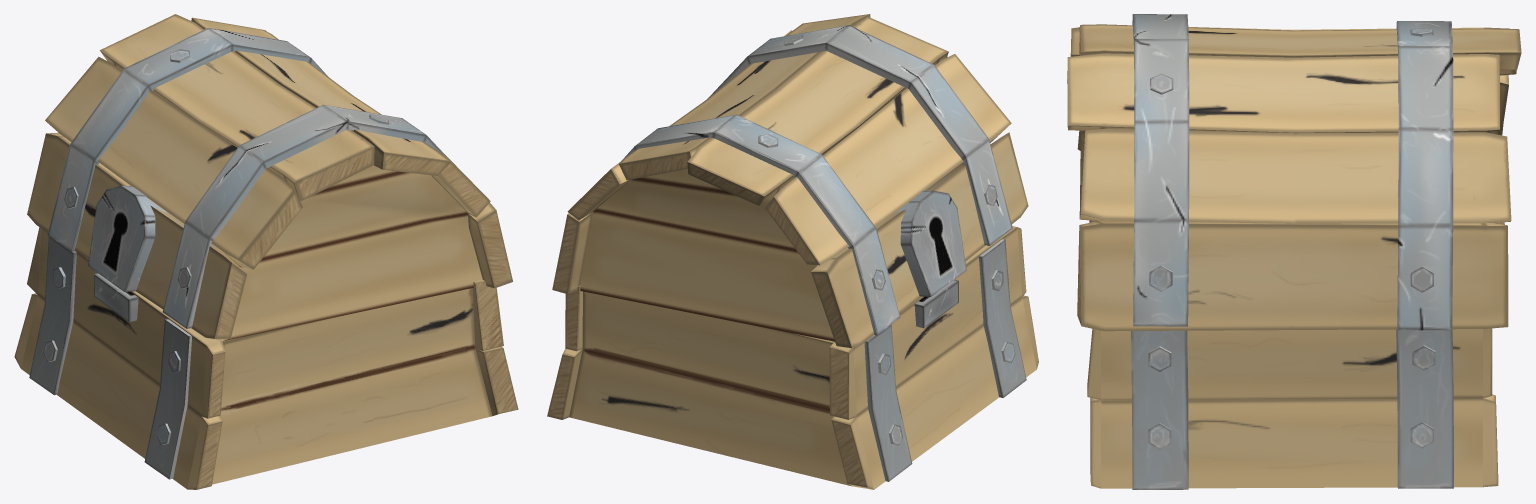
Rendered from chest_closed.obj.
3 views of the same model, side by side, from view 1: azimuth 30°, elevation 25°; view 2: azimuth 150°, elevation 25°; view 3: azimuth 270°, elevation 25° (orthographic). The views are drawn at different scales.
Parts seen in each view (by area): view 1: polySurface7; view 2: polySurface7; view 3: polySurface7.
Boxes of the visible parts, bbox=[...] form: polySurface7: bbox=[14, 14, 518, 489]; polySurface7: bbox=[547, 14, 1038, 489]; polySurface7: bbox=[1067, 14, 1521, 489].
Bounding box in the file's own units: 2.33 × 2.1 × 2.38.
